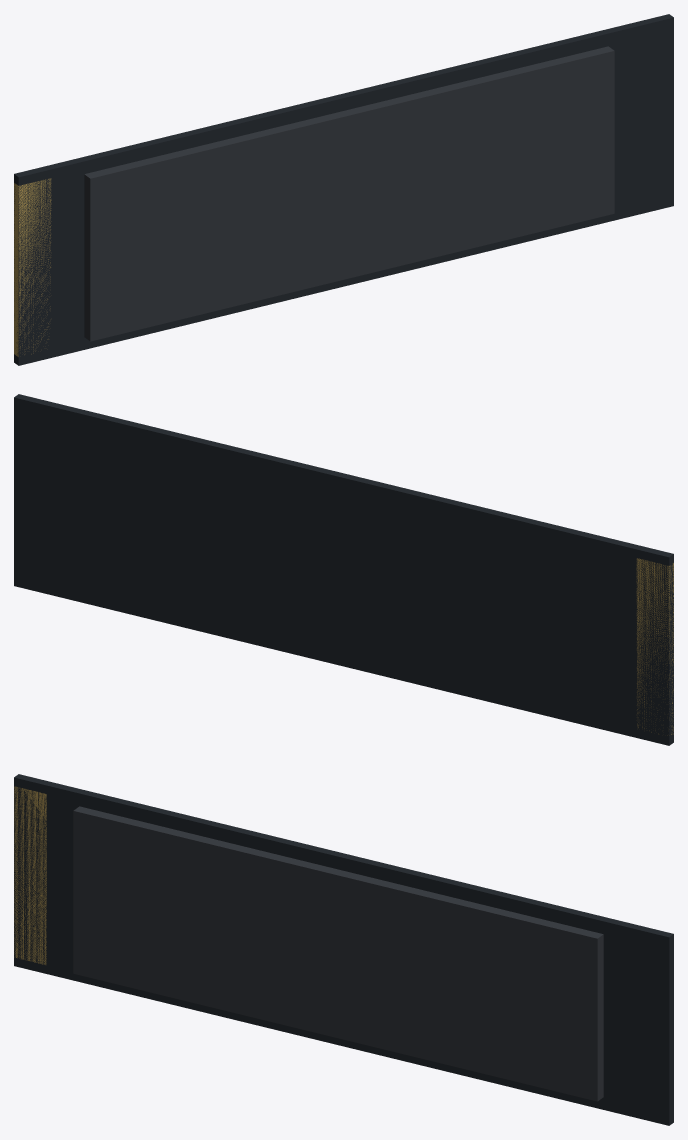
The model's file is ssd-990pro.glb.
3 views of the same model, one above another, from view 1: azimuth 30°, elevation 25°; view 2: azimuth 150°, elevation 25°; view 3: azimuth 330°, elevation 25° (orthographic).
Parts seen in each view (by area): view 1: Label envelope, PCB, Edge connector; view 2: PCB, Edge connector; view 3: Label envelope, PCB, Edge connector.
Part boxes in pixels (x1=…): Label envelope: x1=84, y1=46, x2=614, y2=341; PCB: x1=14, y1=14, x2=673, y2=365; Edge connector: x1=14, y1=178, x2=51, y2=356; PCB: x1=14, y1=394, x2=673, y2=745; Edge connector: x1=636, y1=558, x2=673, y2=735; Label envelope: x1=73, y1=806, x2=603, y2=1101; PCB: x1=14, y1=774, x2=673, y2=1125; Edge connector: x1=14, y1=786, x2=46, y2=964.
Size of the model in its own units: 0.08 by 0.022 by 0.0023.
